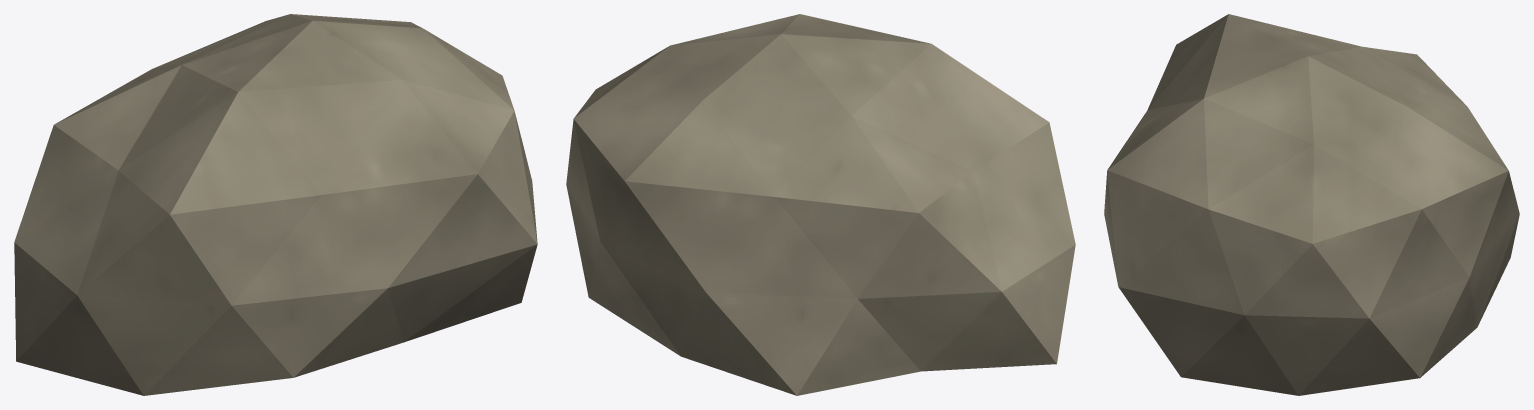
File: Rock_01.glb
3 renders of one model, left to right at view 1: azimuth 30°, elevation 25°; view 2: azimuth 150°, elevation 25°; view 3: azimuth 270°, elevation 25°, orthographic. The views are drawn at different scales.
Visible parts, largest first — view 1: Rock_01; view 2: Rock_01; view 3: Rock_01.
Boxes of the visible parts, bbox=[...] form: Rock_01: bbox=[14, 14, 537, 395]; Rock_01: bbox=[566, 14, 1075, 395]; Rock_01: bbox=[1104, 14, 1519, 395].
Size of the model in its own units: 1.35 by 0.78 by 1.05.
1 material, 1 textured.
